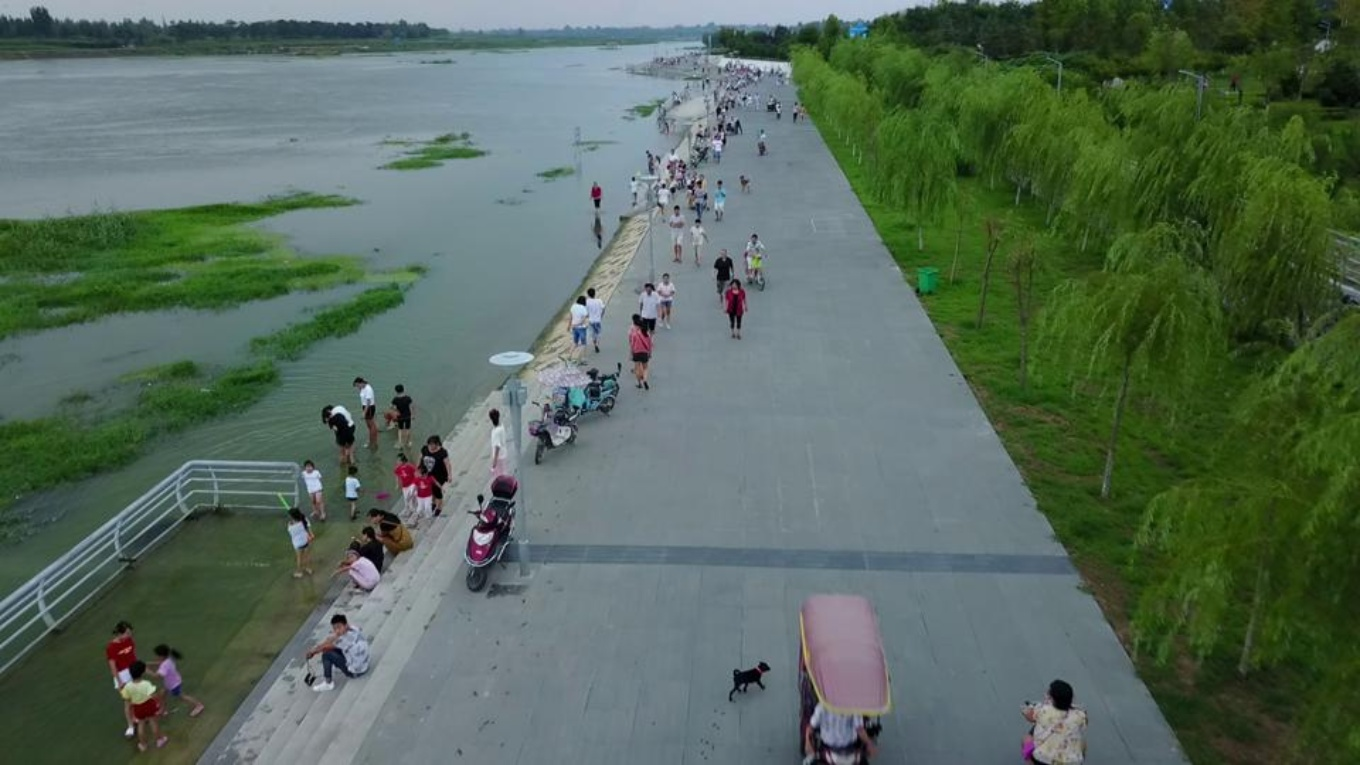awning-tricycle: (791, 590, 896, 764)
bicycle: (741, 252, 768, 288), (688, 188, 706, 209)
ignored regions: (716, 62, 761, 89), (712, 90, 751, 109), (770, 63, 787, 86), (682, 49, 702, 62), (654, 55, 679, 65), (702, 49, 710, 72), (692, 62, 699, 76)
motor: (461, 475, 515, 590), (552, 361, 624, 426), (526, 400, 579, 464), (675, 168, 685, 188), (693, 147, 706, 161), (689, 150, 699, 168), (757, 140, 766, 155), (774, 107, 780, 117)
others: (724, 116, 734, 133)
pedestrian: (104, 621, 144, 736), (145, 647, 203, 715), (124, 664, 164, 749), (420, 433, 450, 514), (485, 409, 511, 489), (284, 506, 312, 577), (322, 406, 355, 460), (354, 376, 378, 448), (300, 458, 328, 519), (321, 409, 348, 467), (393, 451, 416, 512), (392, 382, 413, 448), (395, 451, 417, 512), (710, 247, 733, 301), (631, 322, 649, 390), (635, 281, 658, 334), (569, 295, 587, 362), (586, 288, 604, 352), (414, 465, 434, 522), (414, 465, 433, 523), (655, 271, 674, 328), (726, 277, 743, 338), (689, 218, 708, 266), (628, 312, 642, 375), (669, 205, 683, 263), (346, 467, 359, 518), (589, 179, 603, 215), (658, 182, 669, 222), (627, 177, 641, 206), (715, 179, 724, 222), (695, 182, 705, 219), (689, 169, 698, 205), (644, 148, 654, 179), (668, 150, 678, 179), (652, 154, 661, 182), (666, 177, 676, 202), (730, 116, 743, 134), (709, 126, 717, 150), (715, 137, 722, 162), (719, 127, 726, 151), (685, 185, 692, 206), (712, 137, 719, 158), (798, 101, 805, 121), (791, 101, 798, 121), (664, 167, 672, 184), (753, 92, 760, 110), (705, 134, 712, 150), (717, 104, 724, 118), (719, 114, 724, 130), (715, 104, 720, 120), (669, 93, 675, 106), (661, 101, 666, 116), (719, 110, 723, 128), (672, 89, 676, 106), (723, 103, 727, 116), (683, 86, 686, 100), (767, 93, 771, 103), (688, 89, 692, 99)
people: (1011, 679, 1098, 764), (804, 674, 877, 764), (303, 614, 369, 692), (365, 508, 412, 553), (334, 550, 378, 594), (351, 528, 382, 573), (747, 233, 764, 278), (747, 233, 763, 278), (345, 539, 365, 567), (696, 174, 709, 208), (743, 243, 753, 274), (756, 128, 767, 154), (751, 247, 760, 276), (678, 160, 688, 184), (654, 177, 664, 198), (693, 123, 703, 141), (774, 100, 781, 116), (661, 121, 668, 135), (685, 172, 691, 186), (775, 104, 781, 116), (703, 94, 708, 103), (676, 96, 679, 104)
tricycle: (766, 100, 777, 111)
